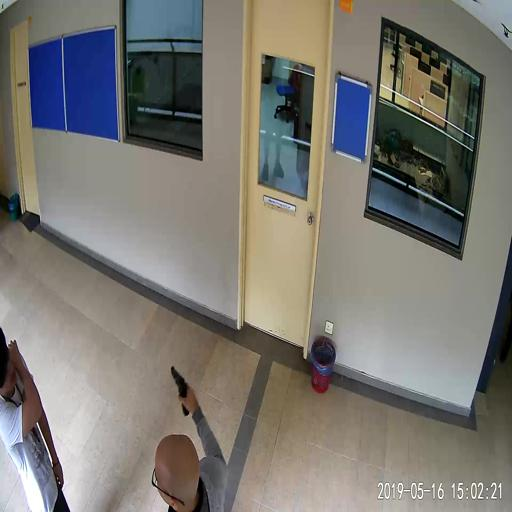pistol: (170, 365, 190, 417)
